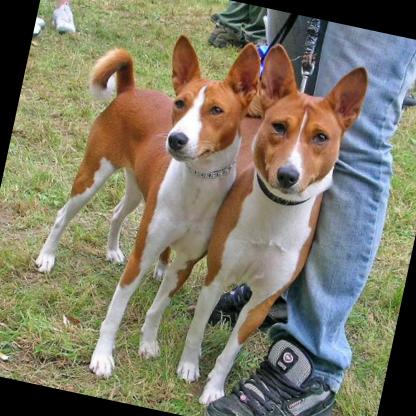basenji: (124, 25, 373, 416), (15, 6, 266, 392)
